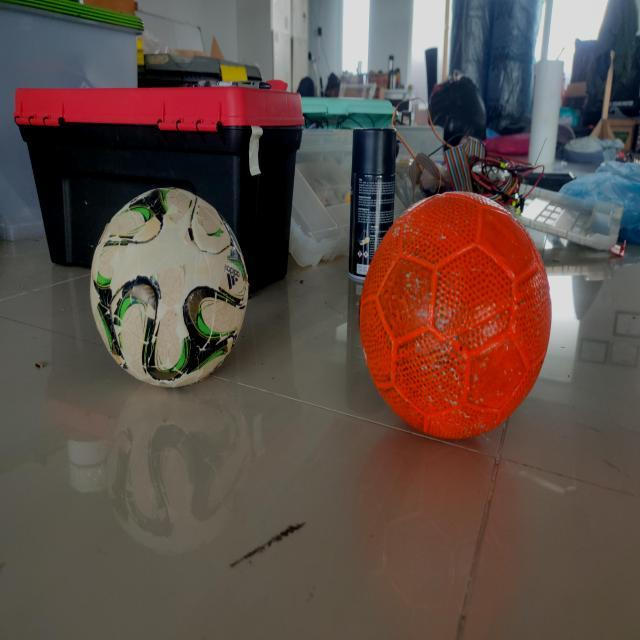bola: (358, 186, 554, 444)
